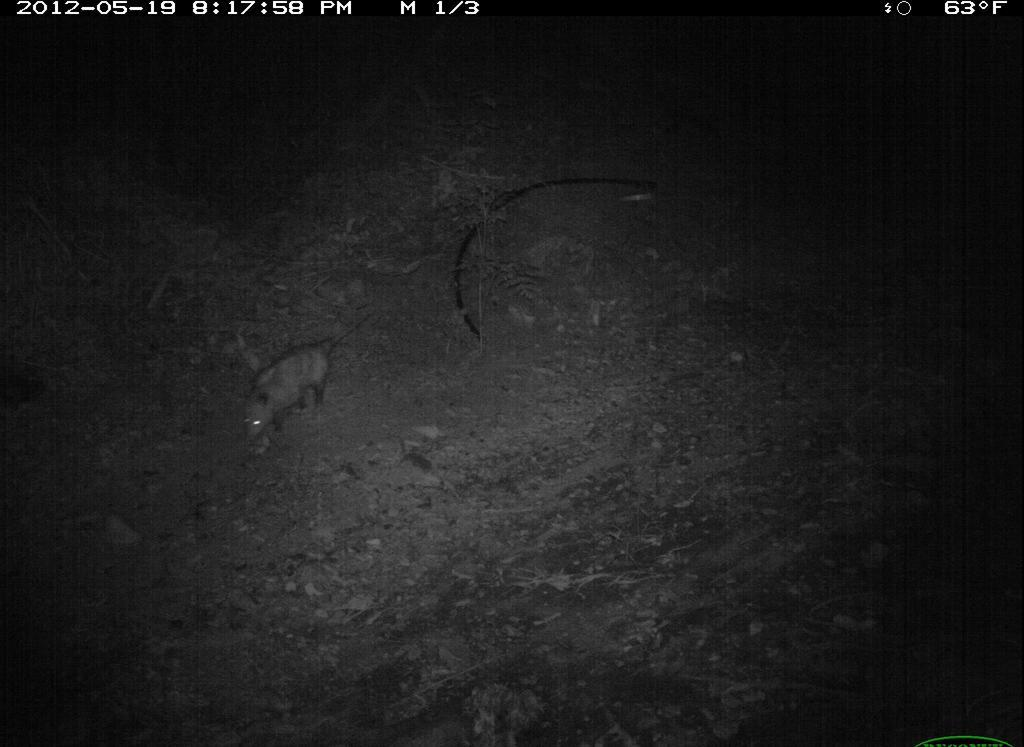opossum: (230, 313, 379, 446)
